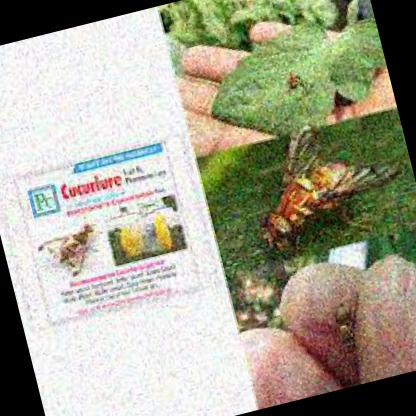fruit fly: (257, 129, 401, 256)
